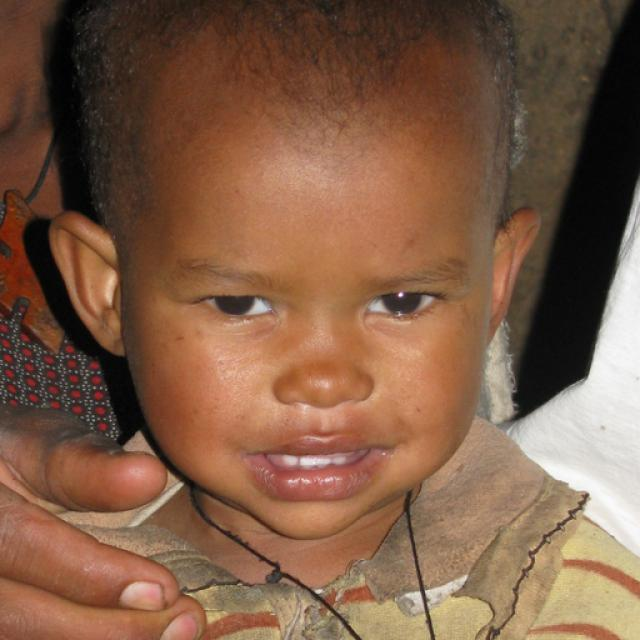anger: (126, 94, 489, 546)
